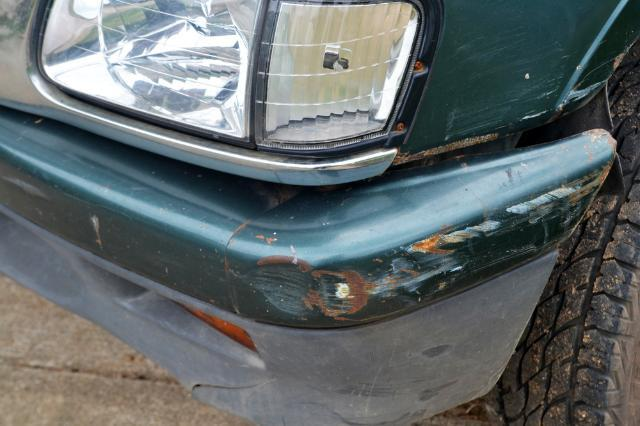crack: (189, 379, 278, 395)
dislocated part: (3, 90, 617, 426)
scratch: (248, 160, 616, 322), (441, 27, 571, 144), (325, 343, 464, 426)
